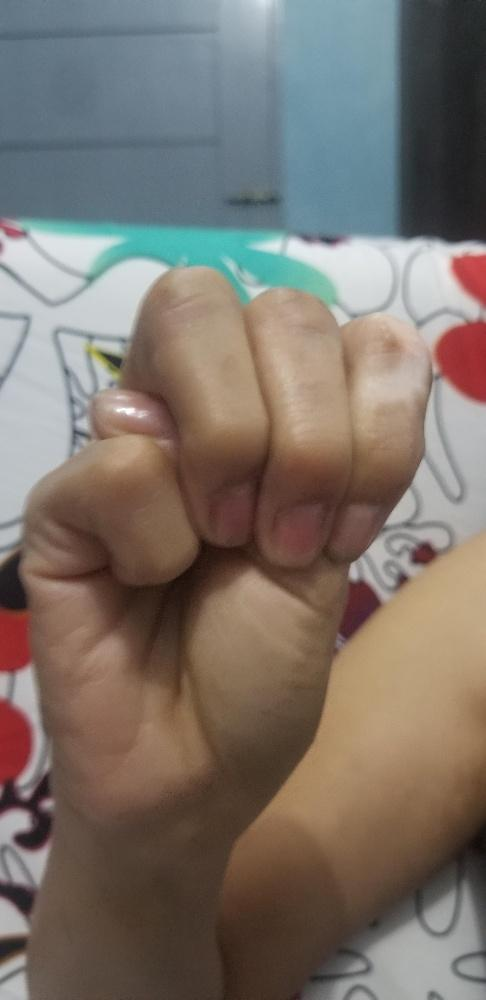m: (14, 260, 435, 825)
